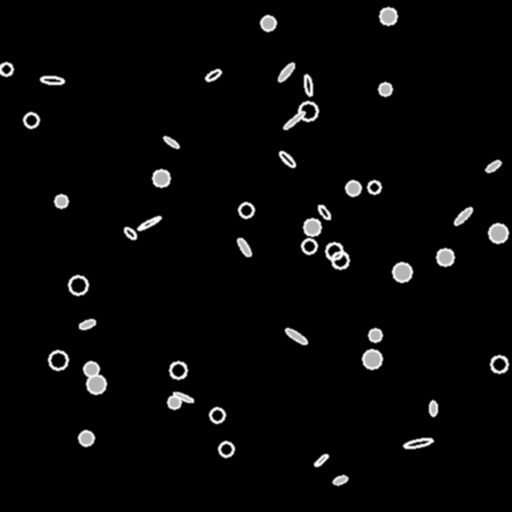pseudomonas: (452, 205, 474, 227), (282, 110, 306, 130), (284, 326, 308, 346), (277, 149, 297, 169), (137, 215, 161, 231), (277, 62, 295, 82), (404, 437, 432, 449), (236, 237, 252, 257), (316, 203, 332, 221), (122, 225, 138, 241), (204, 68, 222, 82), (484, 159, 502, 173), (173, 391, 193, 403), (163, 135, 179, 149), (313, 453, 329, 467), (78, 318, 96, 330), (303, 75, 313, 95), (332, 474, 348, 486), (41, 76, 63, 84), (429, 400, 437, 416)
synechocystis: (87, 375, 105, 393), (49, 351, 67, 369), (489, 224, 507, 242), (363, 350, 381, 368), (393, 263, 411, 281), (299, 102, 317, 120), (69, 276, 87, 294), (304, 219, 320, 235), (332, 252, 348, 268), (380, 8, 396, 24), (437, 249, 453, 265), (326, 243, 342, 259), (491, 356, 507, 372), (153, 170, 169, 186), (170, 362, 186, 378), (210, 408, 224, 422), (79, 431, 93, 445), (24, 113, 38, 127), (219, 442, 233, 456), (84, 362, 98, 376), (346, 181, 360, 195), (239, 203, 253, 217), (261, 16, 275, 30), (302, 239, 316, 253), (368, 181, 380, 193), (0, 63, 12, 75), (168, 396, 180, 408), (369, 329, 381, 341), (379, 83, 391, 95), (55, 195, 67, 207)
